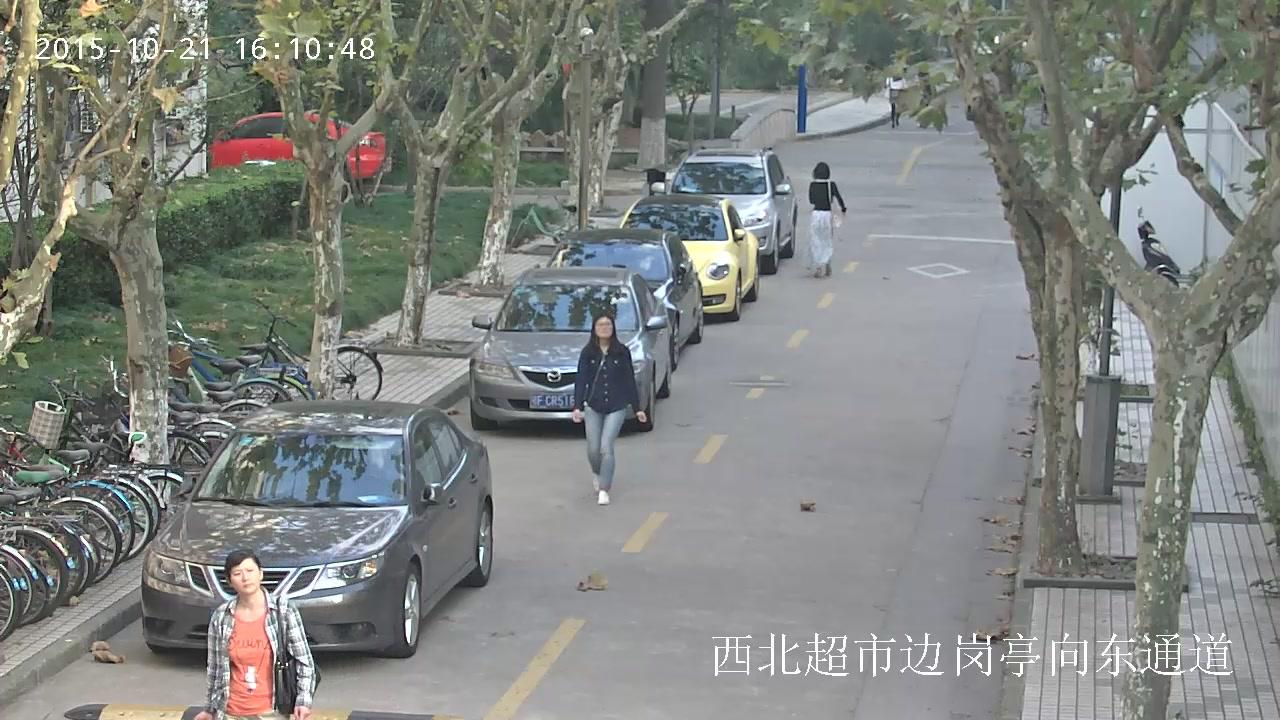person: (204, 550, 319, 720), (572, 312, 646, 505), (808, 161, 845, 276), (886, 73, 907, 129)
